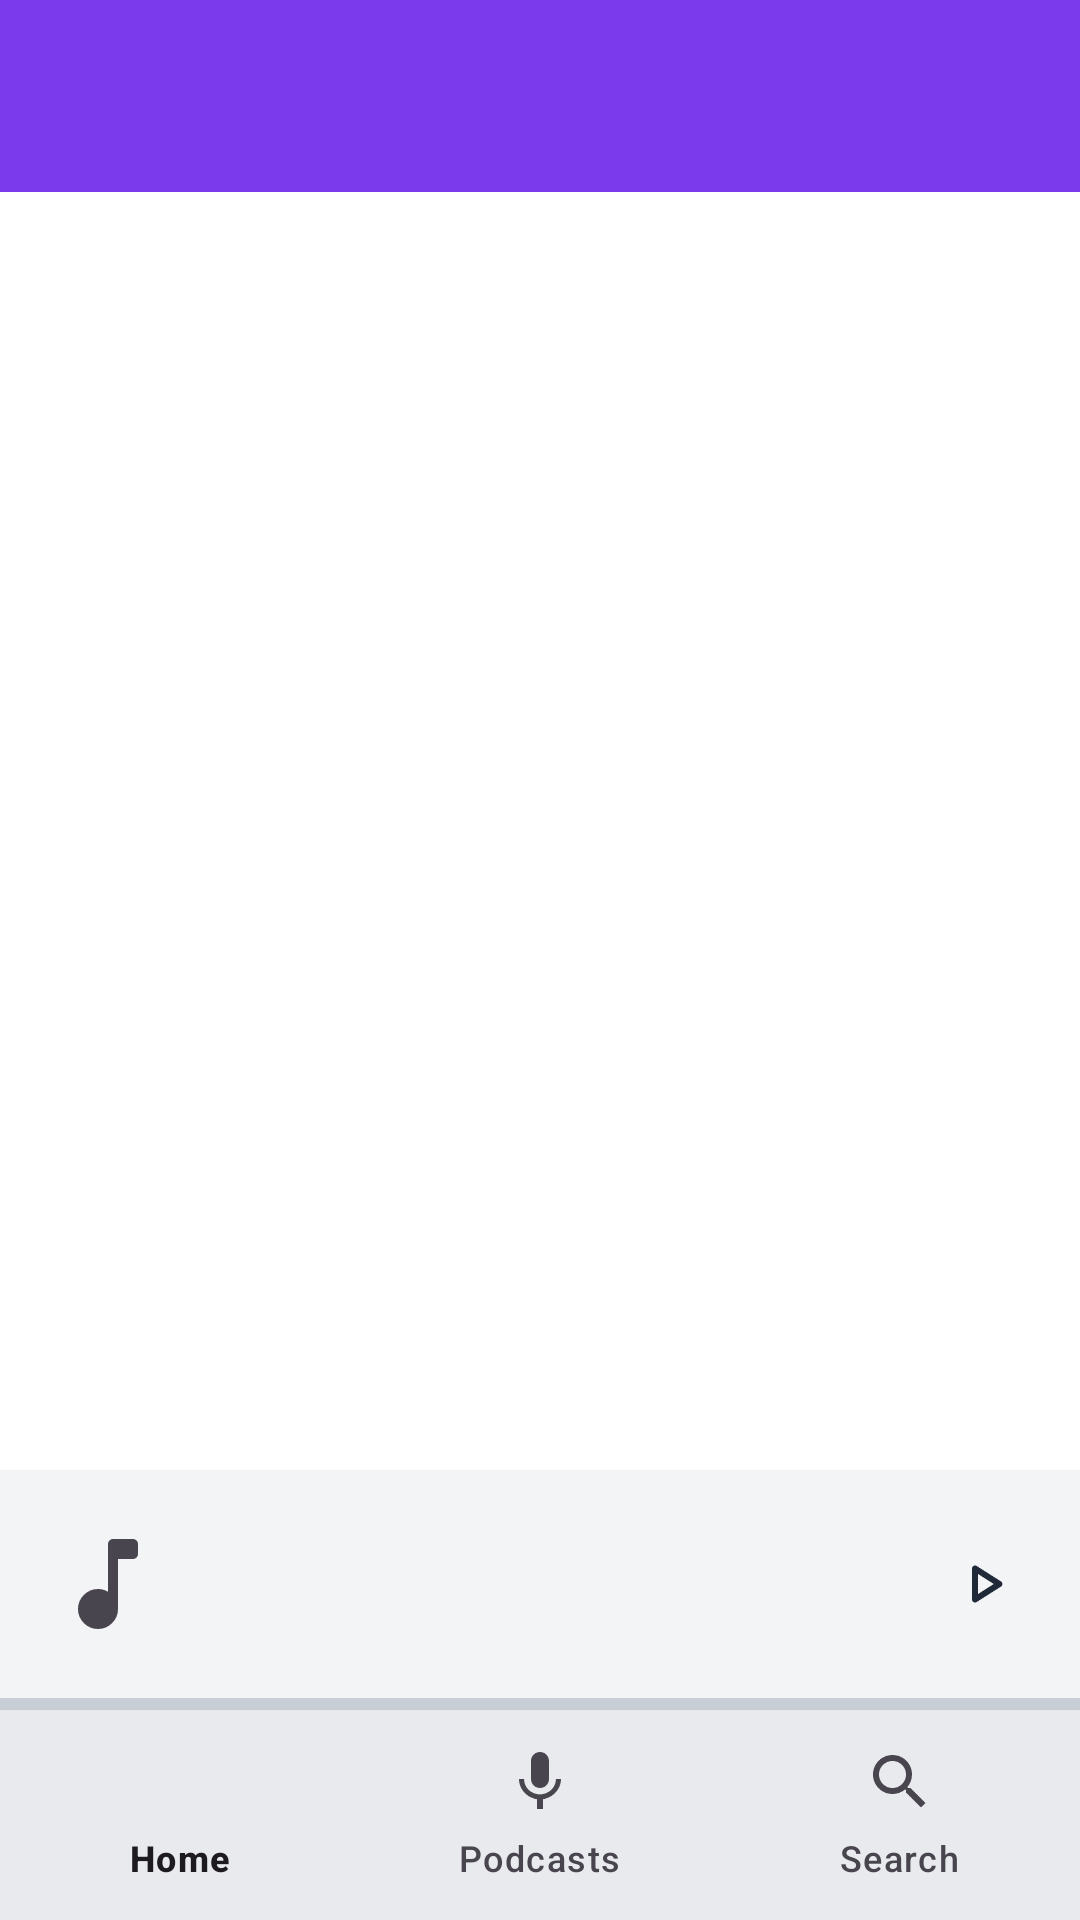

Point at icon controls on the screen. Image size 1080px x 1920px, points as (x=x, y=y).
music note: (x=108, y=1584)
播放或暂停: (x=987, y=1584)
